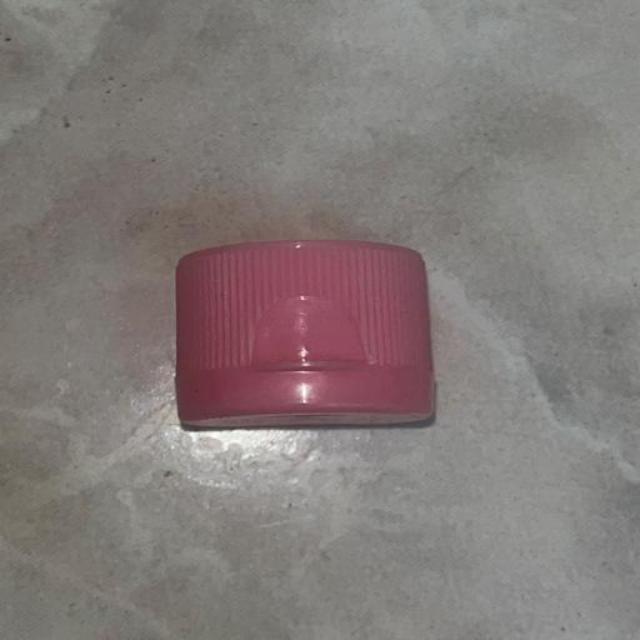PET: (113, 148, 467, 542)
